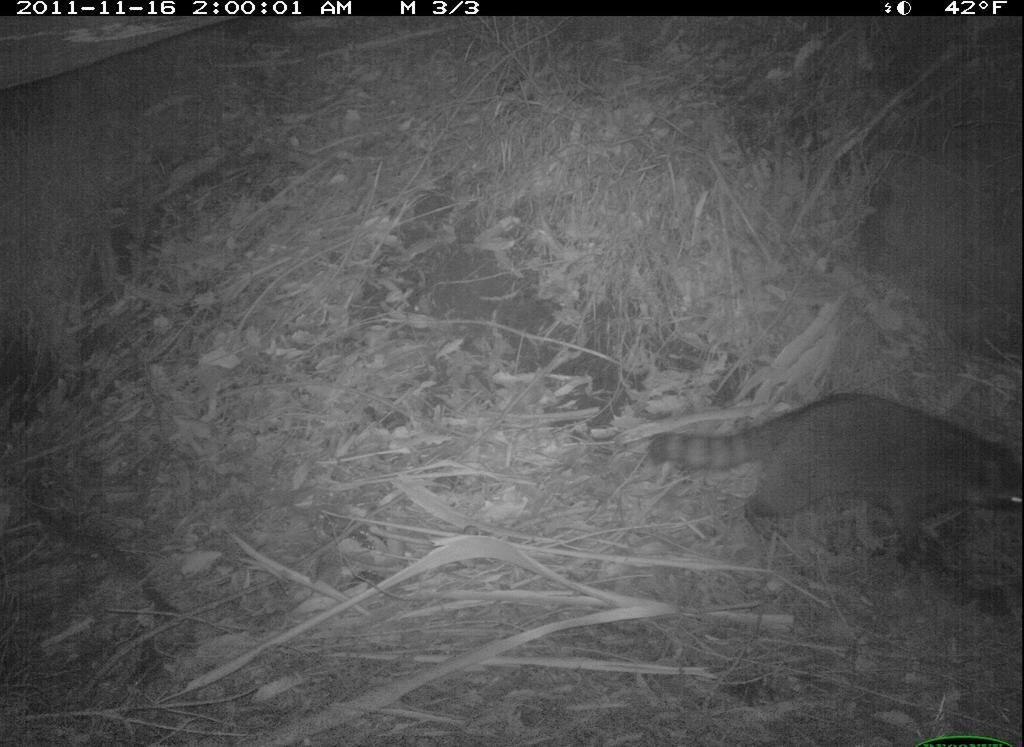raccoon: (644, 382, 1023, 594)
